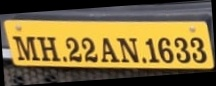character: (12, 35, 40, 60), (36, 36, 60, 61), (116, 36, 139, 62), (100, 37, 120, 63), (173, 36, 191, 63), (189, 35, 206, 63), (80, 37, 98, 62), (65, 36, 82, 62), (157, 37, 174, 63), (145, 37, 160, 63)
